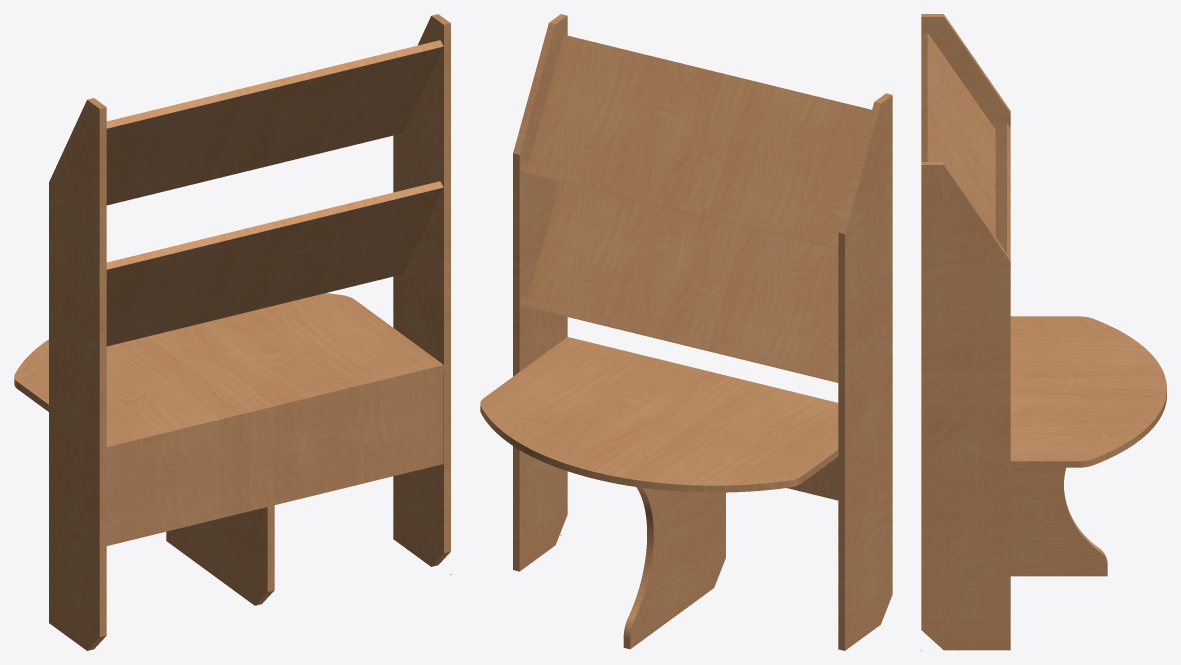
Rendered from vitrina_knizhnaja_1_storonnjaja_so_stolom_2_polki_stol_460.glb.
The picture shows the model from 3 angles, left to right: view 1: azimuth 30°, elevation 25°; view 2: azimuth 150°, elevation 25°; view 3: azimuth 270°, elevation 25°; orthographic projection. The views are drawn at different scales.
Visible parts, largest first — view 1: Shape_IndexedFaceSet.008, Shape_IndexedFaceSet.002, Shape_IndexedFaceSet, Shape_IndexedFaceSet.006, Shape_IndexedFaceSet.007, Shape_IndexedFaceSet.001, Shape_IndexedFaceSet.003; view 2: Shape_IndexedFaceSet.006, Shape_IndexedFaceSet.008, Shape_IndexedFaceSet.007, Shape_IndexedFaceSet, Shape_IndexedFaceSet.001, Shape_IndexedFaceSet.003, Shape_IndexedFaceSet.004, Shape_IndexedFaceSet.005, Shape_IndexedFaceSet.002; view 3: Shape_IndexedFaceSet.001, Shape_IndexedFaceSet.008, Shape_IndexedFaceSet.006, Shape_IndexedFaceSet.003, Shape_IndexedFaceSet, Shape_IndexedFaceSet.004.
Part boxes in pixels (x1,y1,x2,y2): Shape_IndexedFaceSet.008: [14, 293, 443, 454]; Shape_IndexedFaceSet.002: [106, 372, 443, 545]; Shape_IndexedFaceSet: [49, 98, 106, 650]; Shape_IndexedFaceSet.006: [106, 40, 443, 205]; Shape_IndexedFaceSet.007: [106, 181, 443, 346]; Shape_IndexedFaceSet.001: [393, 14, 450, 566]; Shape_IndexedFaceSet.003: [166, 505, 274, 605]; Shape_IndexedFaceSet.006: [527, 35, 871, 249]; Shape_IndexedFaceSet.008: [480, 337, 838, 492]; Shape_IndexedFaceSet.007: [526, 182, 838, 382]; Shape_IndexedFaceSet: [838, 93, 892, 650]; Shape_IndexedFaceSet.001: [513, 14, 567, 571]; Shape_IndexedFaceSet.003: [623, 487, 725, 649]; Shape_IndexedFaceSet.004: [520, 163, 838, 248]; Shape_IndexedFaceSet.005: [520, 296, 838, 382]; Shape_IndexedFaceSet.002: [787, 457, 838, 500]; Shape_IndexedFaceSet.001: [921, 162, 1010, 650]; Shape_IndexedFaceSet.008: [1010, 316, 1166, 467]; Shape_IndexedFaceSet.006: [921, 32, 995, 236]; Shape_IndexedFaceSet.003: [1010, 467, 1107, 576]; Shape_IndexedFaceSet: [921, 14, 1010, 161]; Shape_IndexedFaceSet.004: [995, 123, 1010, 258].
Size of the model in its own units: 801 by 1201 by 551.
10 materials, 9 textured.
